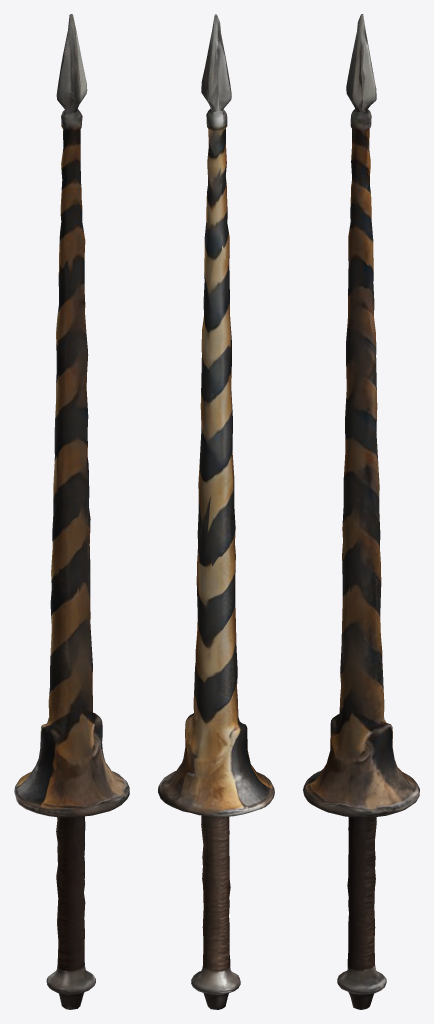
File: gold_tourney_lance.glb
3 renders of one model, left to right at view 1: azimuth 30°, elevation 25°; view 2: azimuth 150°, elevation 25°; view 3: azimuth 330°, elevation 25°, orthographic.
Parts seen in each view (by area): view 1: gold_tourney_lance; view 2: gold_tourney_lance; view 3: gold_tourney_lance.
Boxes of the visible parts, x1,y1,x2,y2 form: gold_tourney_lance: (14,14,129,1009); gold_tourney_lance: (158,14,274,1009); gold_tourney_lance: (303,14,419,1009).
Bounding box in the file's own units: 0.3238 × 3 × 0.3107.
1 material, 1 textured.
